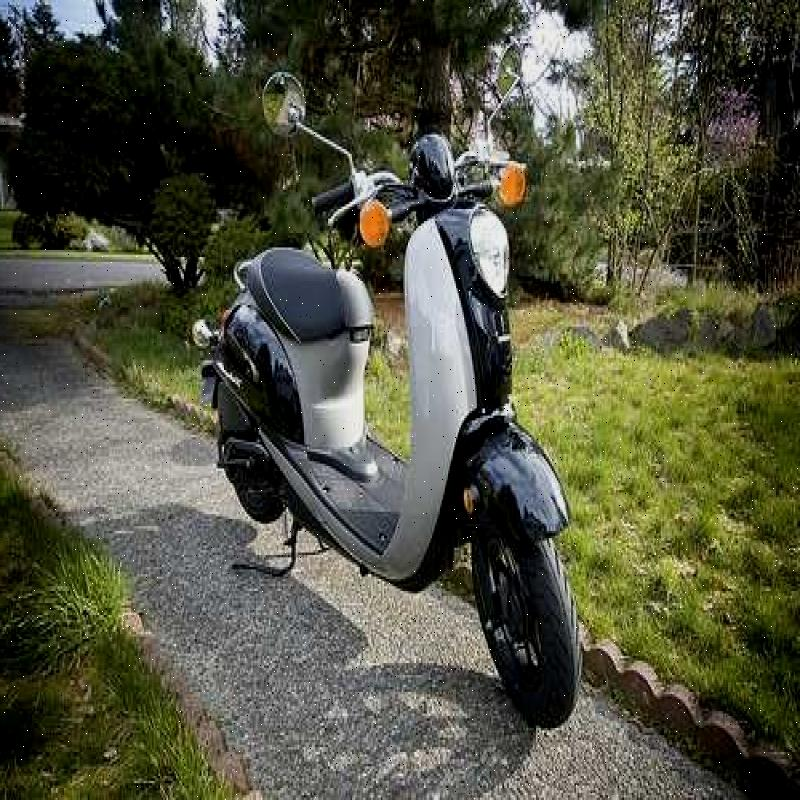bike: (207, 71, 582, 727)
